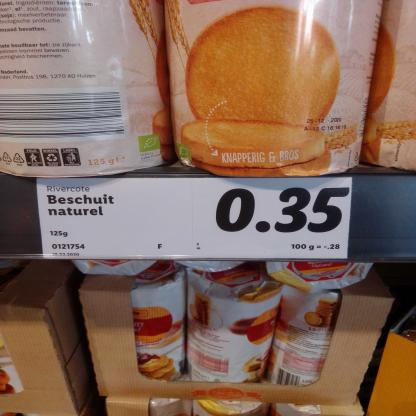prtg: (37, 178, 353, 260)
